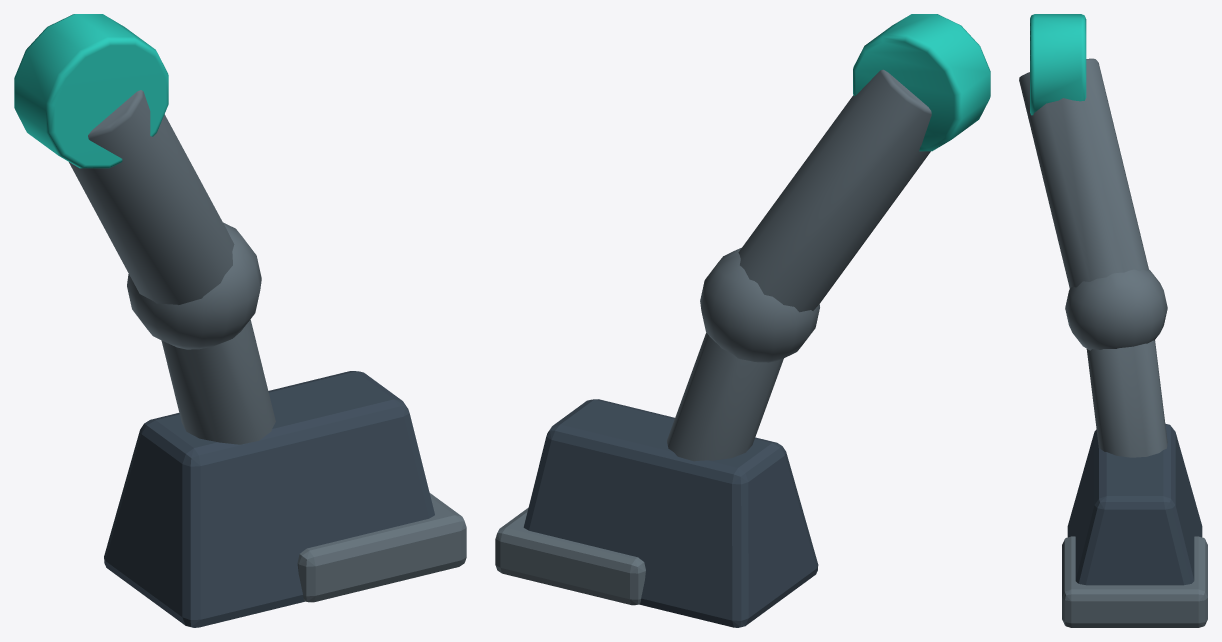
The model's file is SM_Drudge_LegFL.fbx.
The picture shows the model from 3 angles, left to right: view 1: azimuth 30°, elevation 25°; view 2: azimuth 150°, elevation 25°; view 3: azimuth 270°, elevation 25°; orthographic projection. The views are drawn at different scales.
Visible parts, largest first — view 1: SM_Drudge_LegFL; view 2: SM_Drudge_LegFL; view 3: SM_Drudge_LegFL.
Boxes of the visible parts, left/top/right/bottom form: SM_Drudge_LegFL: left=14, top=14, right=466, bottom=627; SM_Drudge_LegFL: left=495, top=14, right=990, bottom=627; SM_Drudge_LegFL: left=1019, top=14, right=1207, bottom=627.
Bounding box in the file's own units: 12.42 × 6.17 × 17.07.
